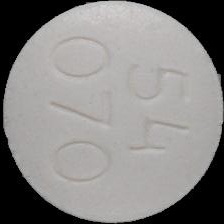54868-5405: (0, 0, 224, 224)
